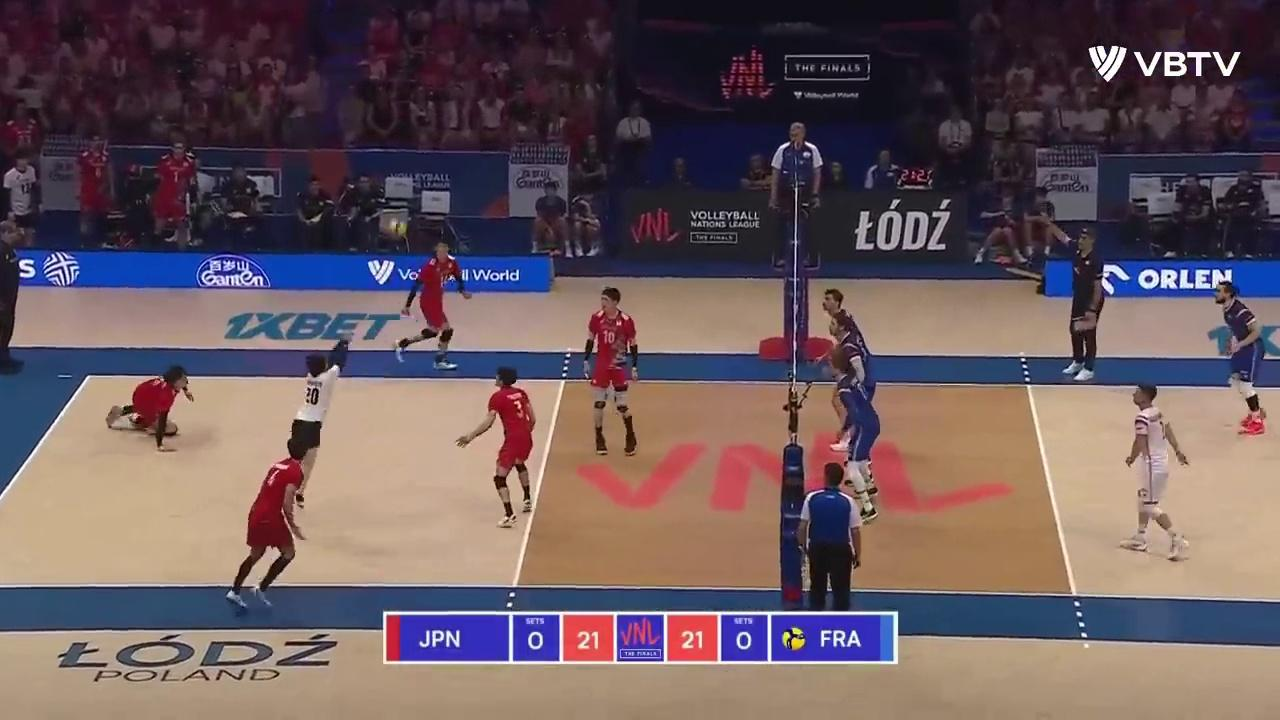ball: (390, 220, 406, 237)
